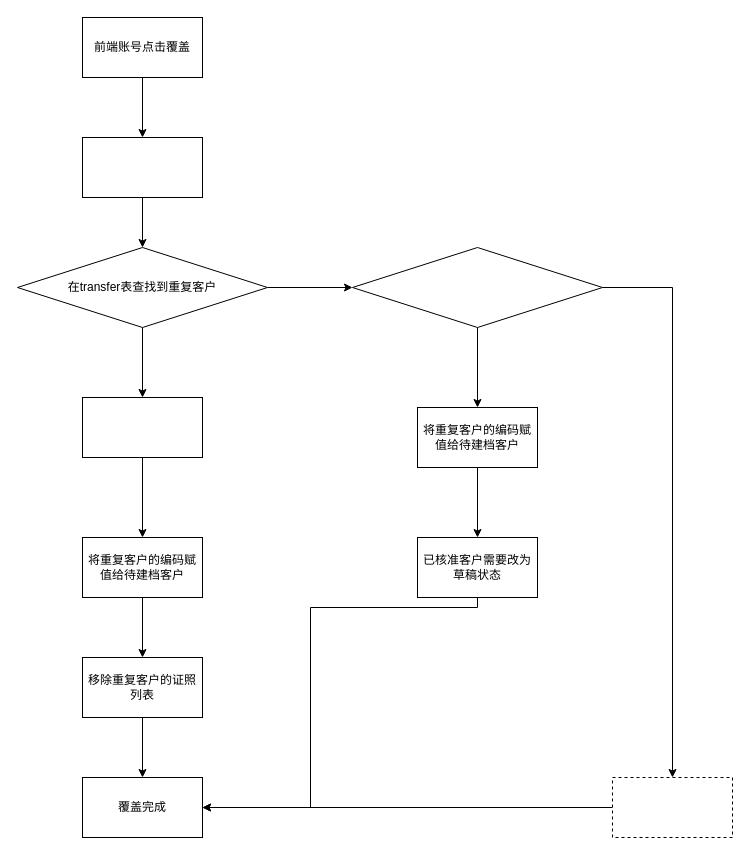
Some shapes in this 750 by 855 pixel diagram are drawn without their labels. The shapes that lost their labels are listed below. From the top down, each one's box as (x1, y1, x2, y2) in pixels, then its label:
(82, 136, 202, 198): 查找重复客户
(352, 246, 602, 328): 在release表查找重复客户
(82, 396, 202, 458): 移除重复客户（不然会触发编码唯一键的约束）
(612, 776, 732, 838): 覆盖失败，重复供应商已被修改，目前无重复（目前没有提示这个）
